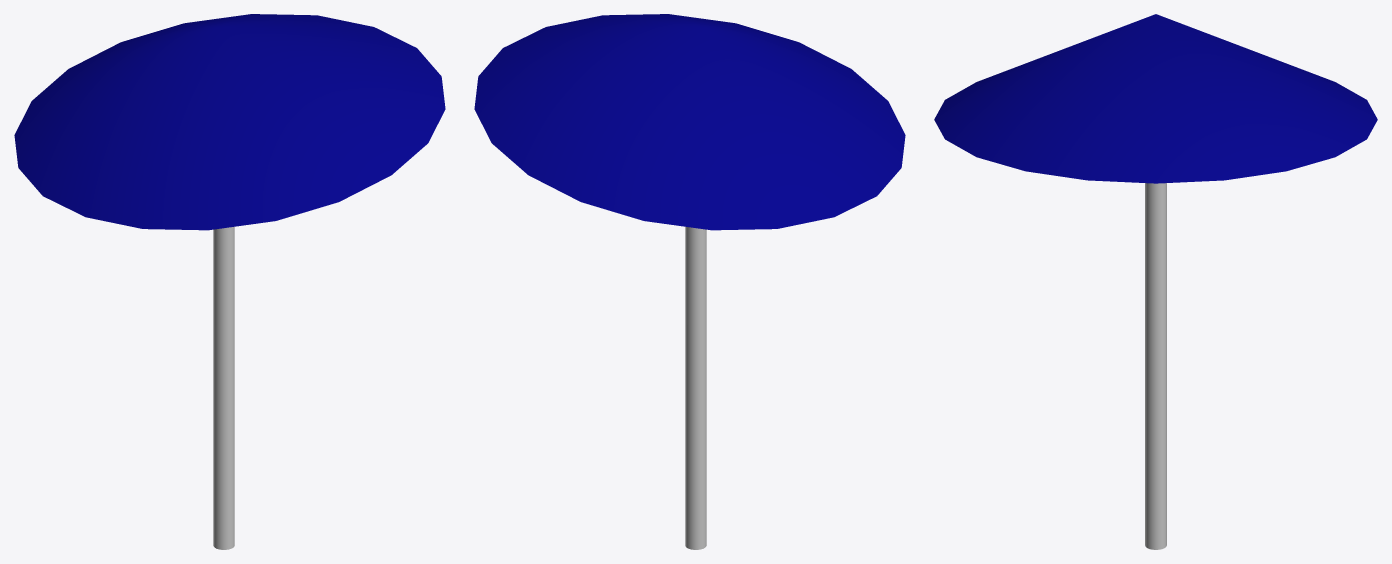
The model's file is UmbrellaBlue.fbx.
3 renders of one model, left to right at view 1: azimuth 30°, elevation 25°; view 2: azimuth 150°, elevation 25°; view 3: azimuth 270°, elevation 25°, orthographic.
Visible parts, largest first — view 1: pCone8, pCylinder17; view 2: pCone8, pCylinder17; view 3: pCone8, pCylinder17.
Boxes of the visible parts, x1=… form: pCone8: x1=14, y1=14, x2=445, y2=230; pCylinder17: x1=213, y1=226, x2=234, y2=549; pCone8: x1=474, y1=14, x2=905, y2=230; pCylinder17: x1=685, y1=226, x2=706, y2=549; pCone8: x1=934, y1=14, x2=1377, y2=183; pCylinder17: x1=1145, y1=183, x2=1166, y2=549.
Size of the model in its own units: 94.89 by 126 by 95.88.
